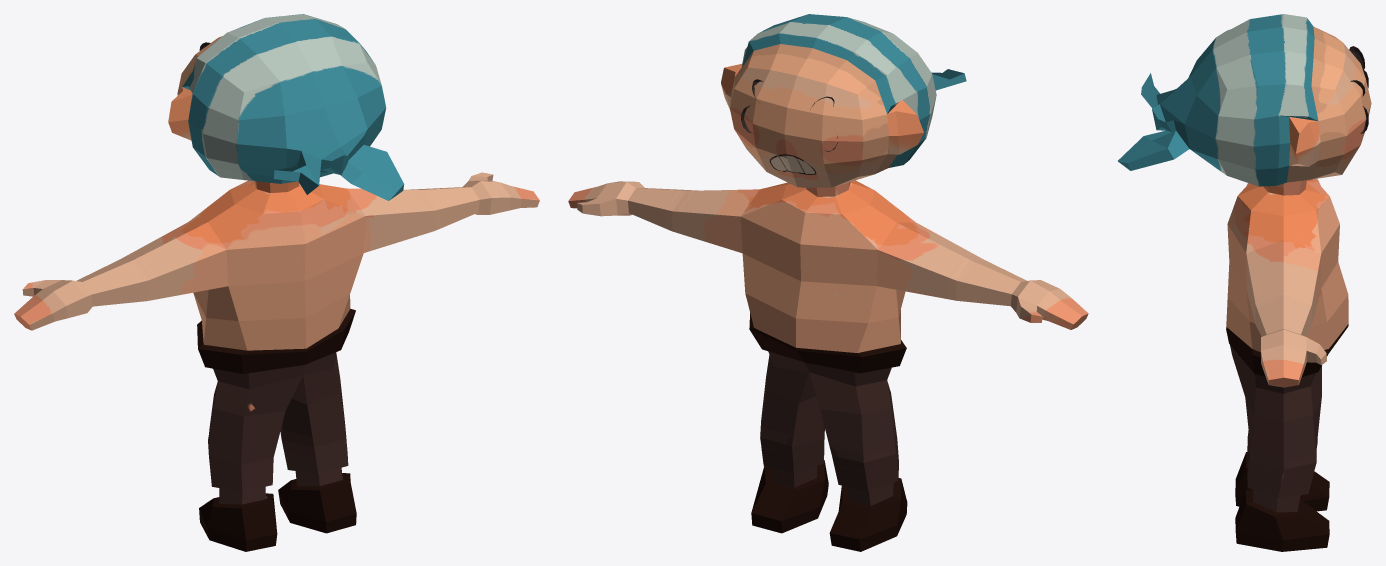
The model's file is npc character.fbx.
3 renders of one model, left to right at view 1: azimuth 30°, elevation 25°; view 2: azimuth 150°, elevation 25°; view 3: azimuth 270°, elevation 25°, orthographic.
Visible parts, largest first — view 1: npc; view 2: npc; view 3: npc.
Part boxes in pixels (bbox=[...]): npc: bbox=[14, 14, 539, 551]; npc: bbox=[568, 14, 1088, 551]; npc: bbox=[1118, 14, 1371, 551].
Size of the model in its own units: 518 by 485 by 226.
